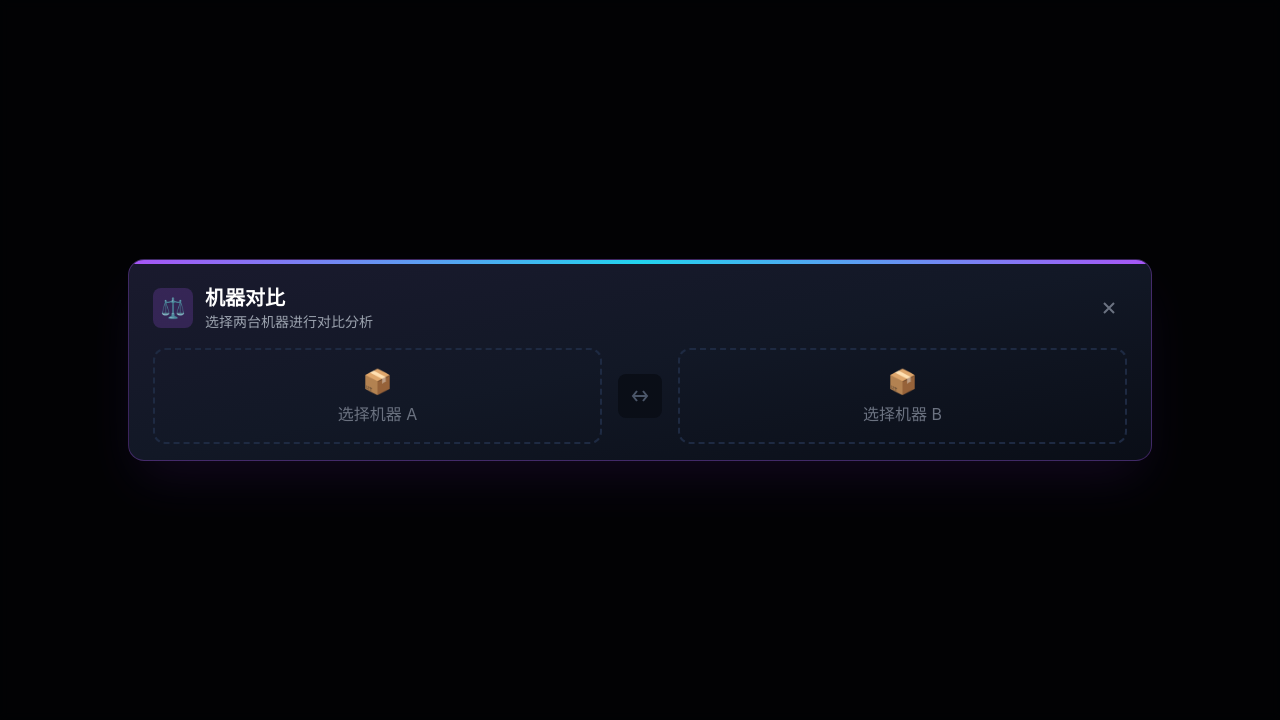
MachineComparisonPanel › Machine Selection Modal › opens machine selector modal header when selecting machine B
Click the button with test id "select-machine-b-button": point(902, 396) [678,348,1127,444]
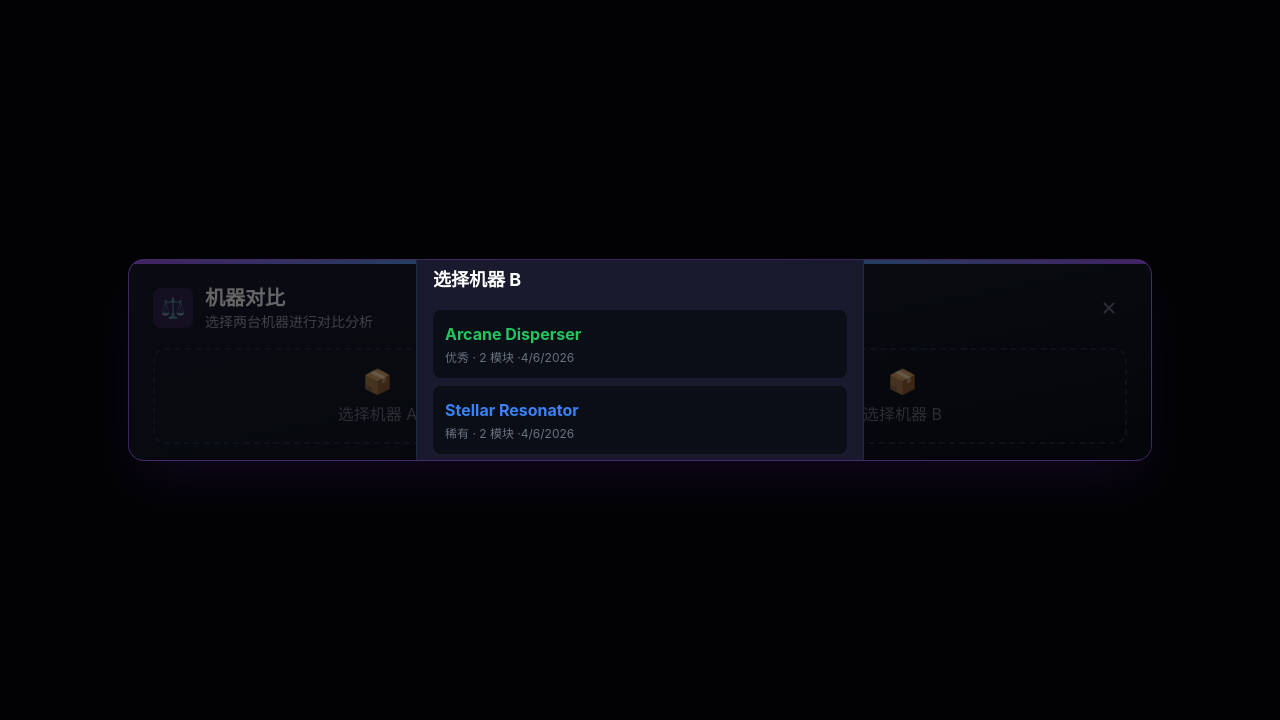
Now the heading "选择机器 B" is shown, box [433,269,521,290]
